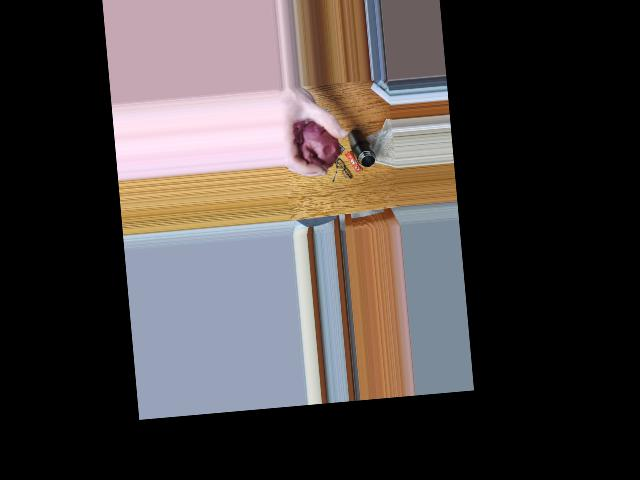onion: (302, 129, 335, 169)
